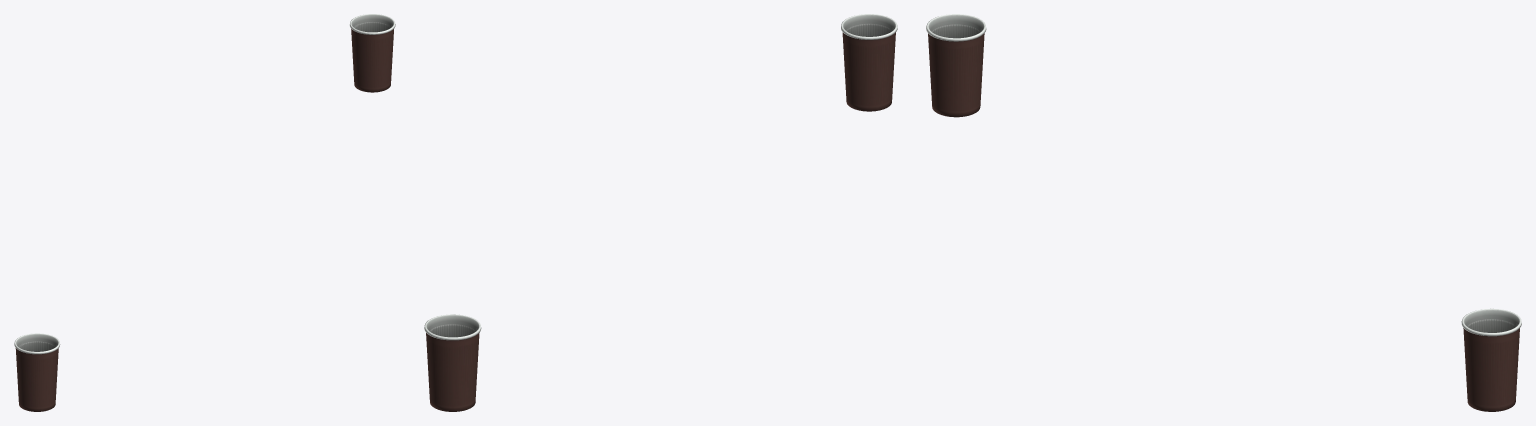
The model's file is coffee2-transformed.glb.
3 views of the same model, side by side, from view 1: azimuth 30°, elevation 25°; view 2: azimuth 210°, elevation 25°; view 3: azimuth 270°, elevation 25° (orthographic). The views are drawn at different scales.
Visible parts, largest first — view 1: Plastic Cup_0; view 2: Plastic Cup_0; view 3: Plastic Cup_0.
Boxes of the visible parts, box(x1,y1,x2,y2) form: Plastic Cup_0: box(14, 14, 395, 411); Plastic Cup_0: box(424, 14, 897, 411); Plastic Cup_0: box(926, 14, 1521, 411).
Bounding box in the file's own units: 22.41 × 3.72 × 15.2.
1 material, 1 textured.
